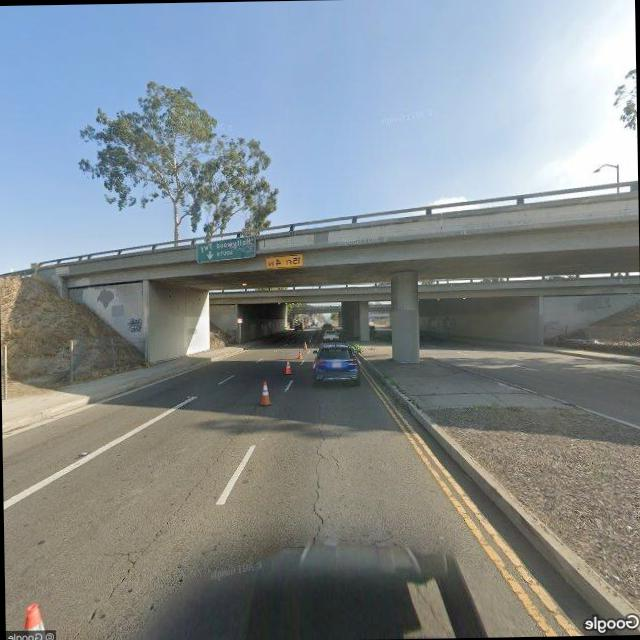pothole: (57, 427, 247, 640), (302, 408, 338, 546)
